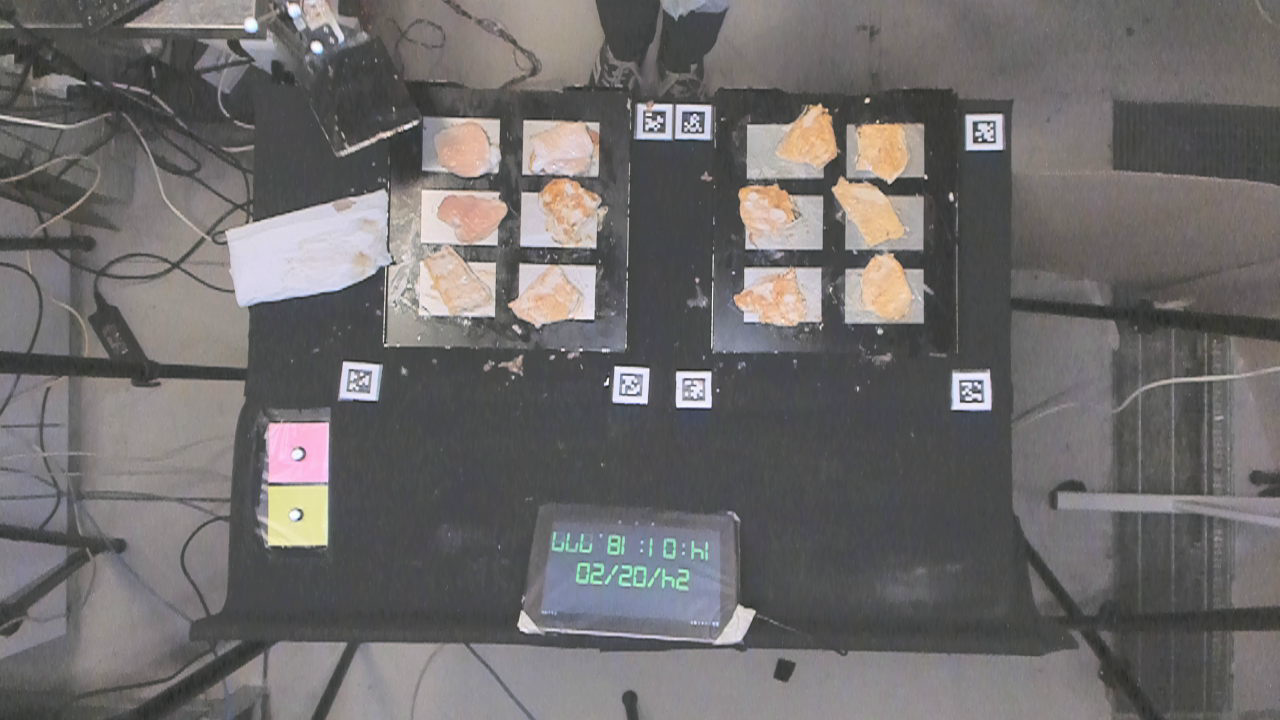chicken: (828, 177, 910, 250), (417, 249, 494, 323), (502, 265, 584, 333), (730, 267, 812, 330), (538, 176, 607, 248), (776, 98, 842, 168), (431, 191, 511, 245), (526, 121, 596, 178), (737, 185, 801, 246), (851, 121, 913, 183), (859, 251, 911, 320), (434, 123, 494, 179)
marker: (263, 419, 333, 487)
